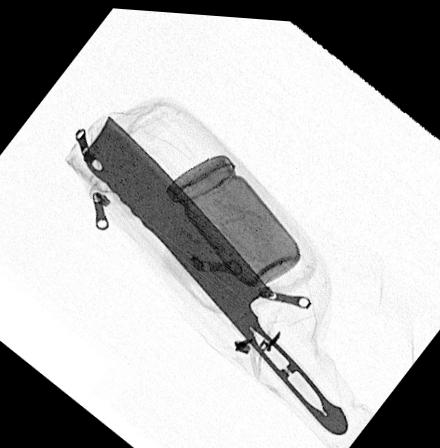Knife: (79, 110, 349, 431)
